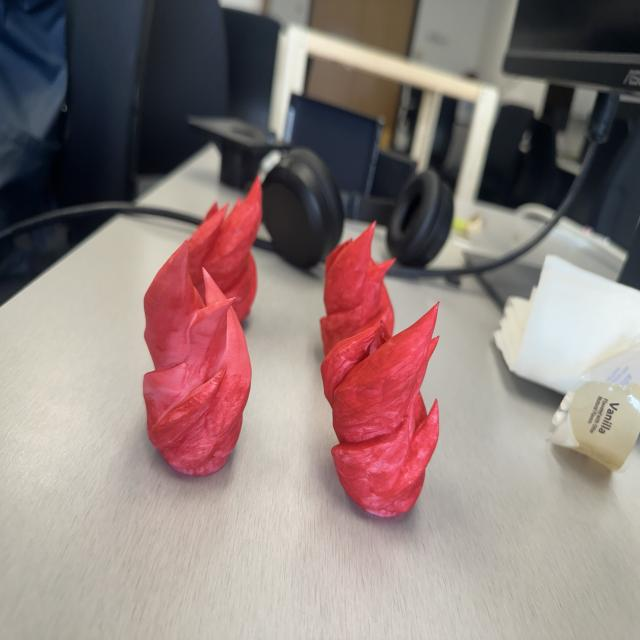fire: (140, 241, 253, 480), (322, 302, 444, 520), (184, 175, 266, 322), (320, 229, 396, 347)
